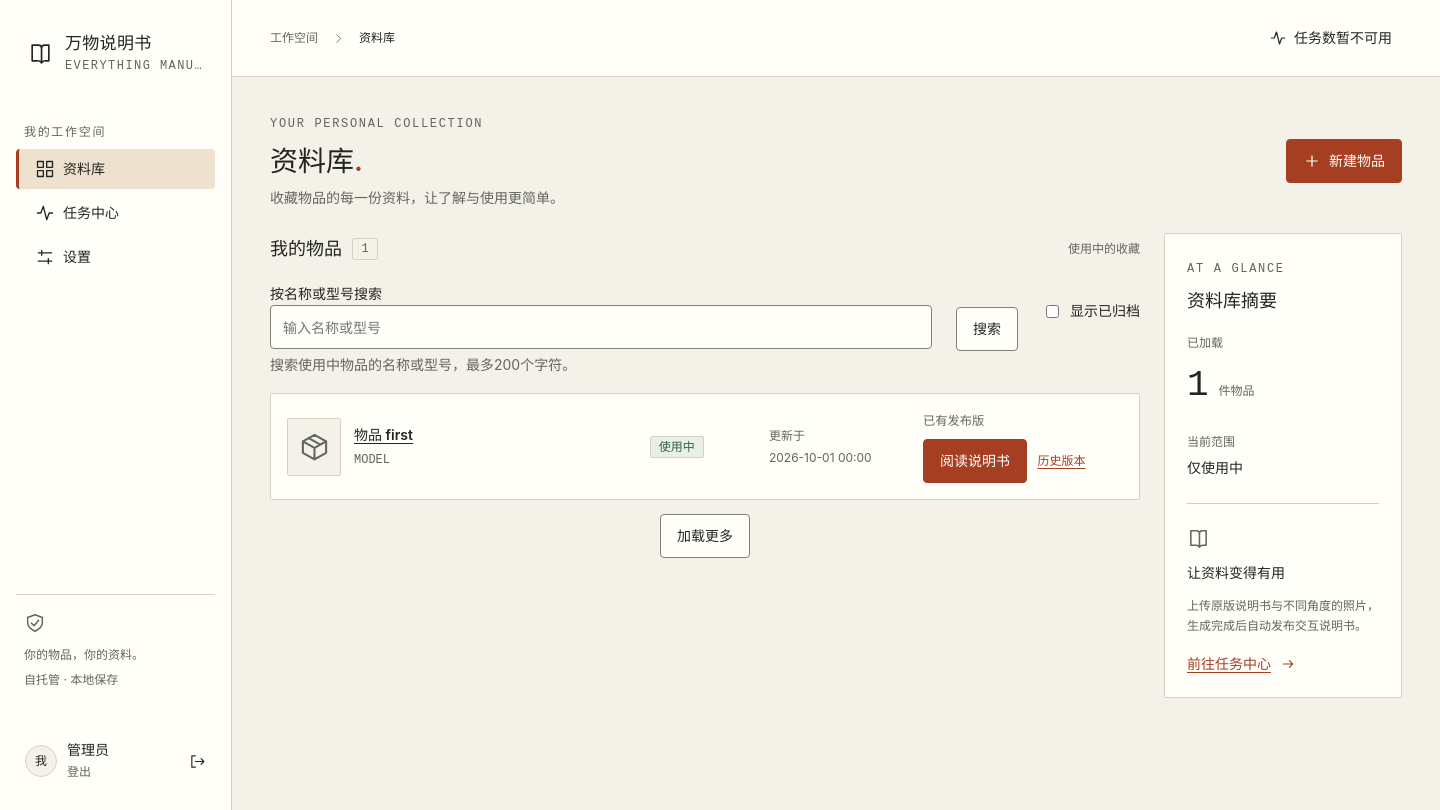
PC05A server search and retained results › advances successful pagination without dropping the prefix and resets scope on archive change
The image size is (1440, 810).
expect the link "物品 first" is shown: met, box [354, 426, 413, 443]
Click the button "加载更多": (705,536) [660, 514, 750, 558]
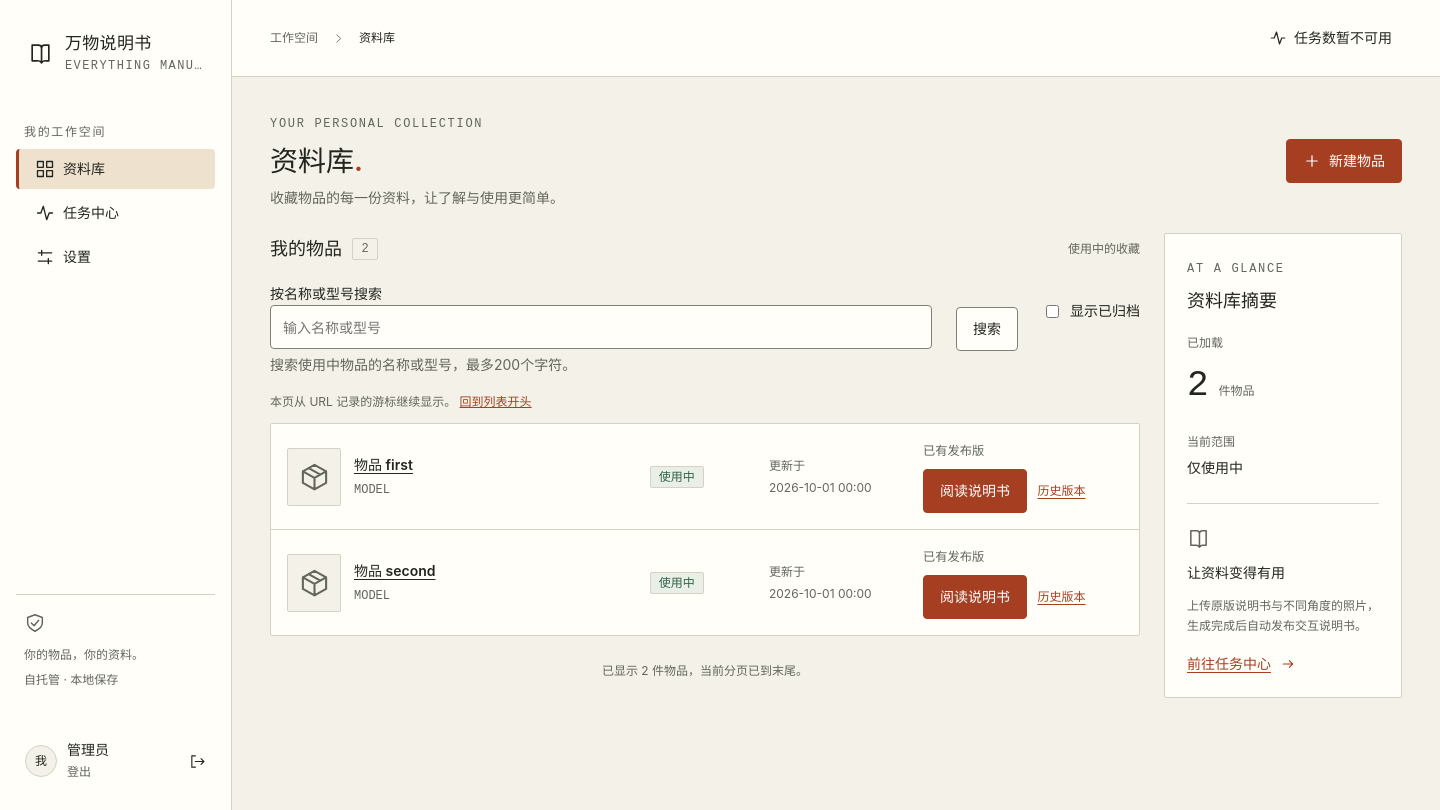
expect the link "物品 first" is shown: met, box [354, 456, 413, 473]
expect the link "物品 second" is shown: met, box [354, 562, 436, 579]
Click the checkbox labelled "显示已归档": (1052,311) [1046, 304, 1059, 318]
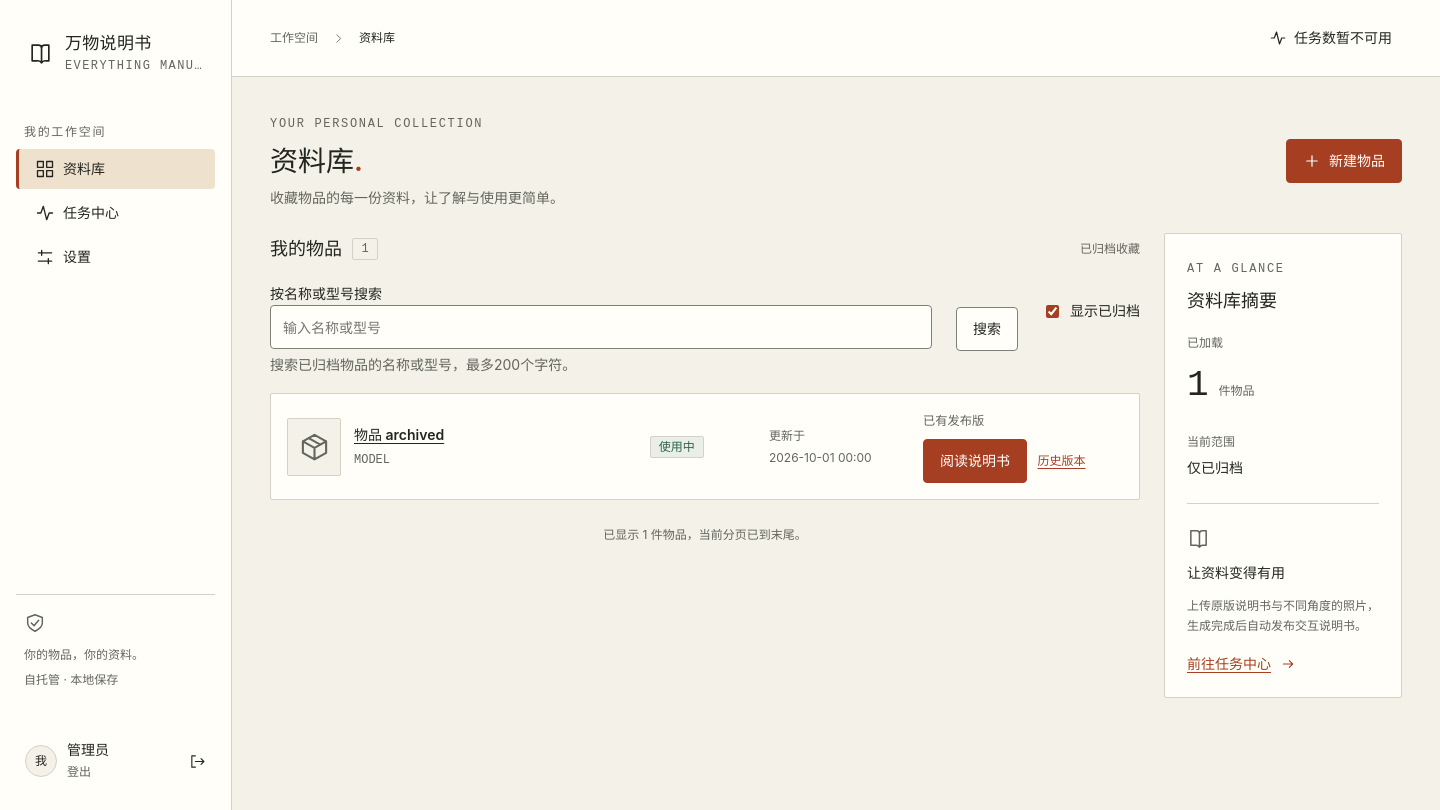
expect the link "物品 archived" is shown: met, box [354, 426, 444, 443]
expect the link "物品 first" is gone: met
